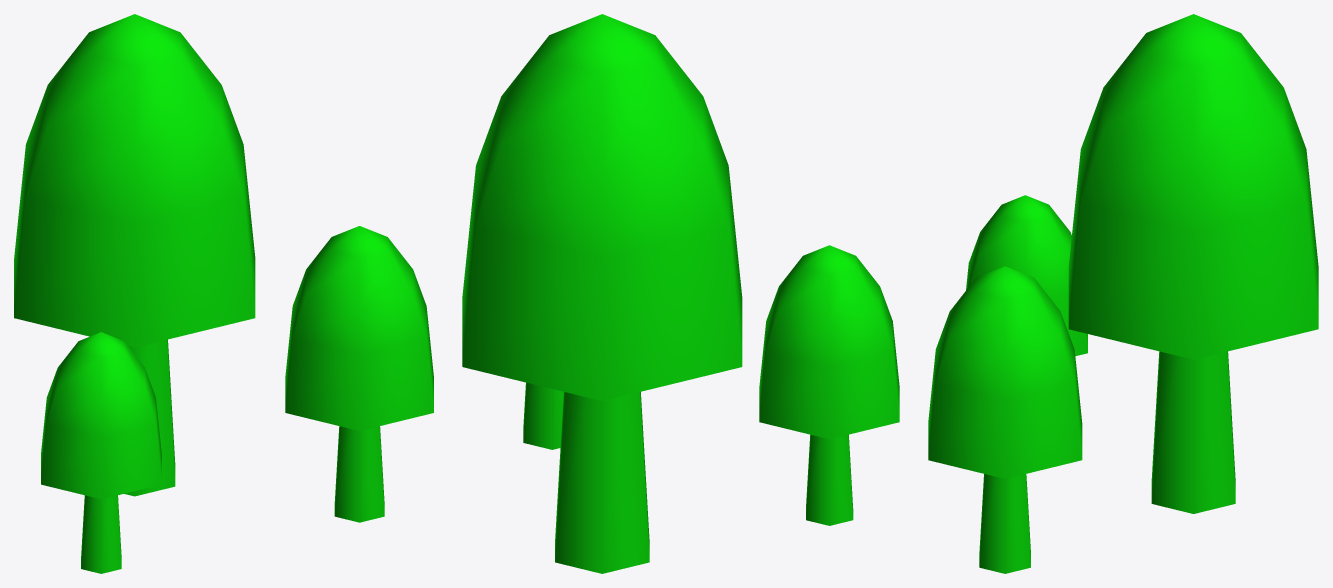
The model's file is m_mushroom2.fbx.
3 renders of one model, left to right at view 1: azimuth 30°, elevation 25°; view 2: azimuth 150°, elevation 25°; view 3: azimuth 270°, elevation 25°, orthographic. The views are drawn at different scales.
Visible parts, largest first — view 1: m_mushroom4; view 2: m_mushroom4; view 3: m_mushroom4.
Part boxes in pixels (x1,y1,x2,y2): m_mushroom4: [14, 14, 433, 573]; m_mushroom4: [462, 14, 899, 573]; m_mushroom4: [928, 14, 1318, 573].
Bounding box in the file's own units: 0.8851 × 1.02 × 0.7533.
